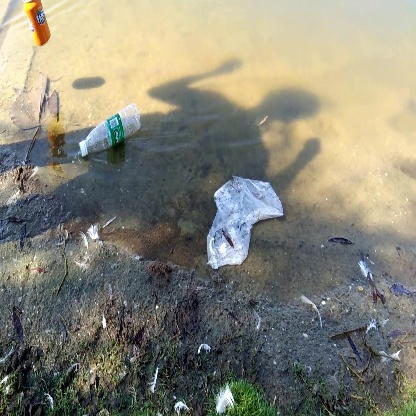bottle: (75, 100, 147, 160), (22, 1, 57, 49)
plastic-bag: (203, 172, 286, 273)
